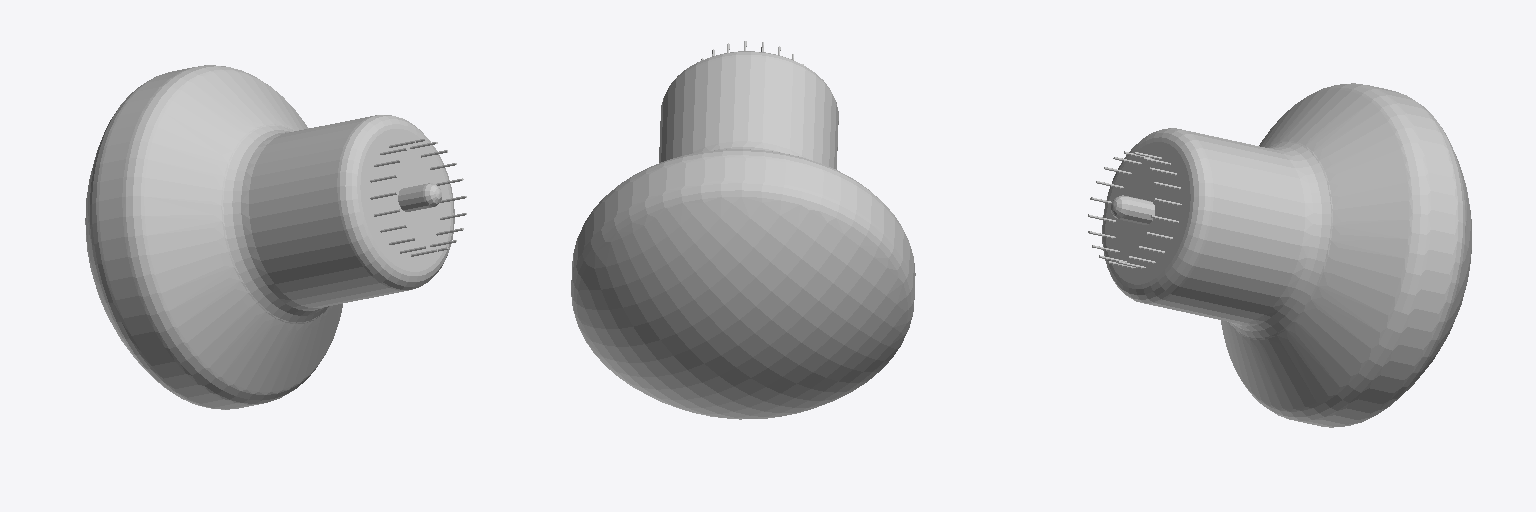
File: PMT.obj
3 views of the same model, side by side, from view 1: azimuth 30°, elevation 25°; view 2: azimuth 150°, elevation 25°; view 3: azimuth 270°, elevation 25° (orthographic).
Visible parts, largest first — view 1: Volumenkörper1; view 2: Volumenkörper1; view 3: Volumenkörper1.
Part boxes in pixels (x1,y1,x2,y2): Volumenkörper1: (85, 65, 466, 409); Volumenkörper1: (571, 41, 915, 419); Volumenkörper1: (1088, 83, 1471, 427).
Size of the model in its own units: 10.38 by 10.21 by 11.64.